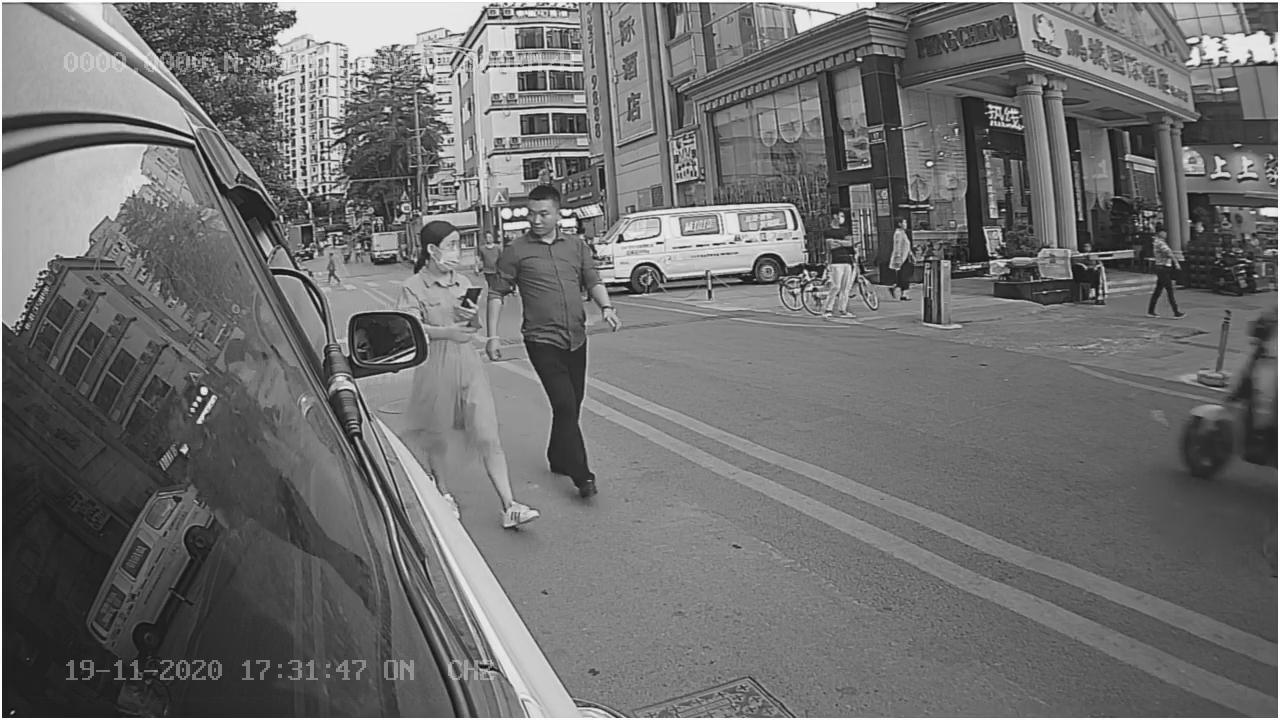person: (489, 187, 617, 456), (401, 218, 470, 302)
